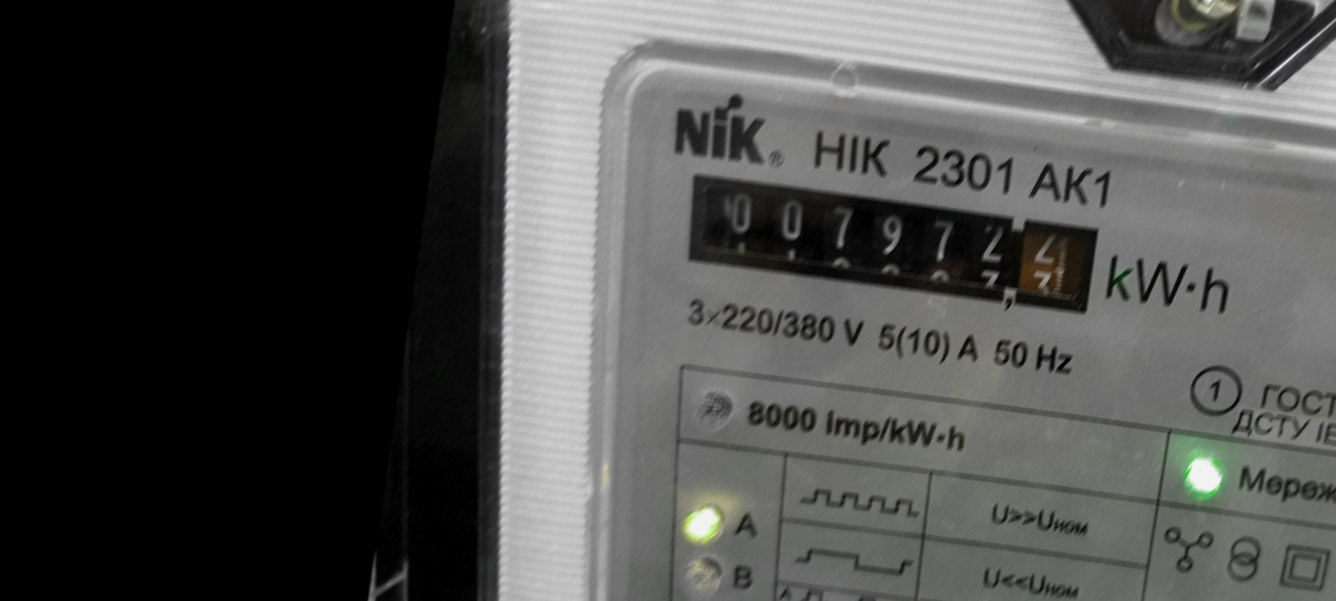0: (725, 189, 757, 233), (777, 195, 807, 240)
2: (979, 222, 1007, 263), (1031, 229, 1058, 266)
3: (1028, 267, 1054, 295)
7: (926, 215, 957, 264), (826, 202, 856, 250)
9: (876, 210, 904, 256)
screen: (663, 156, 1117, 333)
